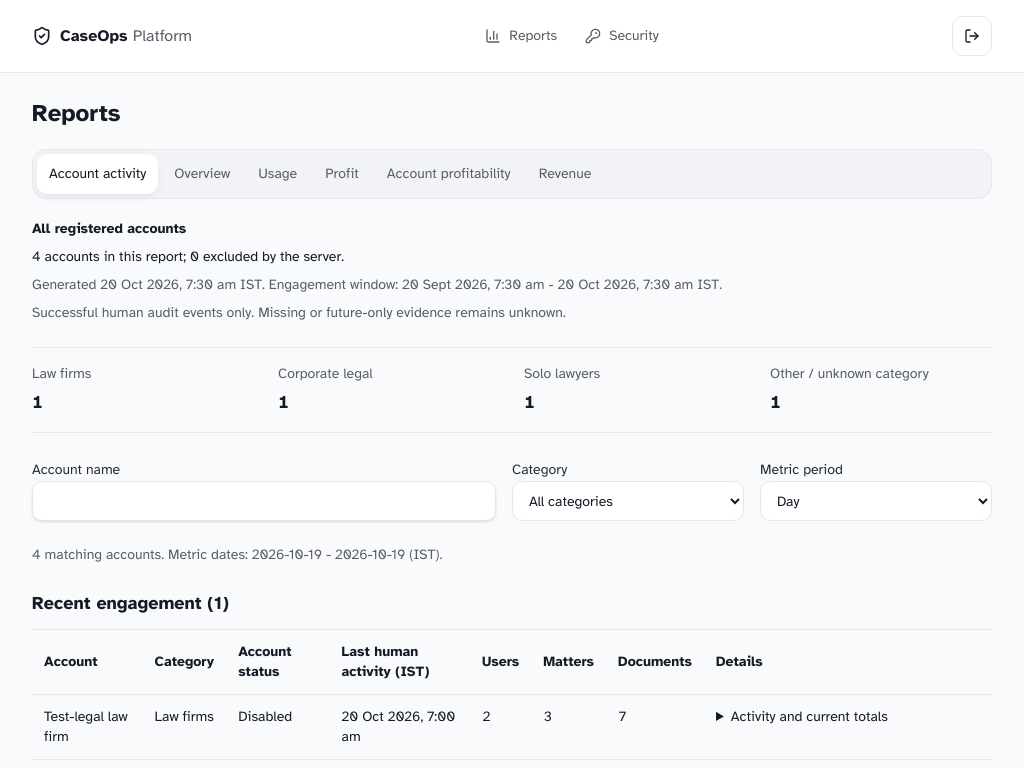
Test: all independent report views › shows a load failure separately from an empty report
Click the tab "Usage" at (278, 174), box [246,154,309,194]
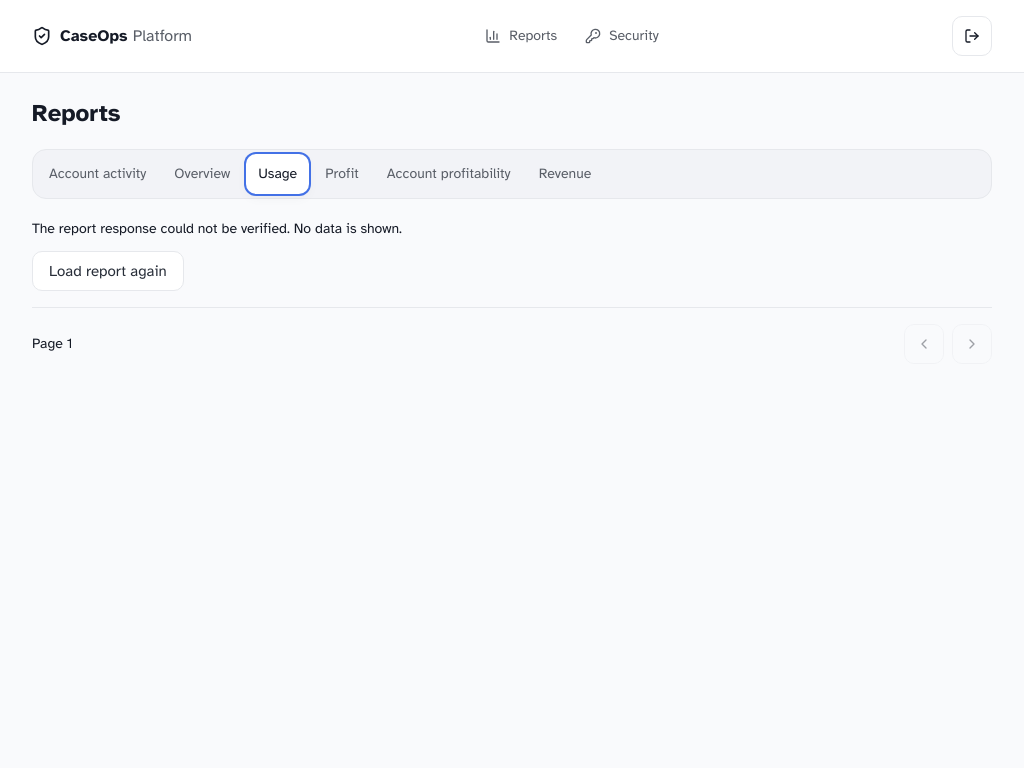
expect the message shows "could not be verified": met, box [32,220,402,237]
